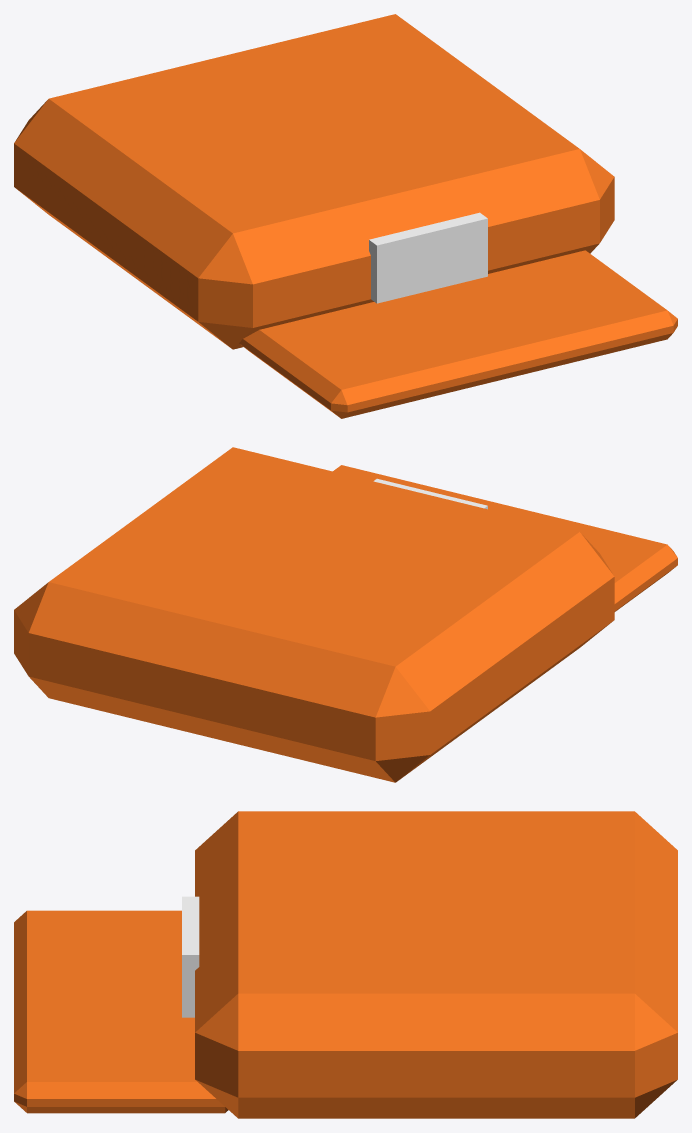
The model's file is acc_cap.glb.
3 views of the same model, one above another, from view 1: azimuth 30°, elevation 25°; view 2: azimuth 150°, elevation 25°; view 3: azimuth 270°, elevation 25° (orthographic). The views are drawn at different scales.
Parts seen in each view (by area): view 1: acc_cap; view 2: acc_cap; view 3: acc_cap.
Boxes of the visible parts, left/top/right/bottom form: acc_cap: left=14, top=14, right=677, bottom=418; acc_cap: left=14, top=447, right=677, bottom=782; acc_cap: left=14, top=811, right=677, bottom=1118.
Bounding box in the file's own units: 0.6 × 0.16 × 0.77.
